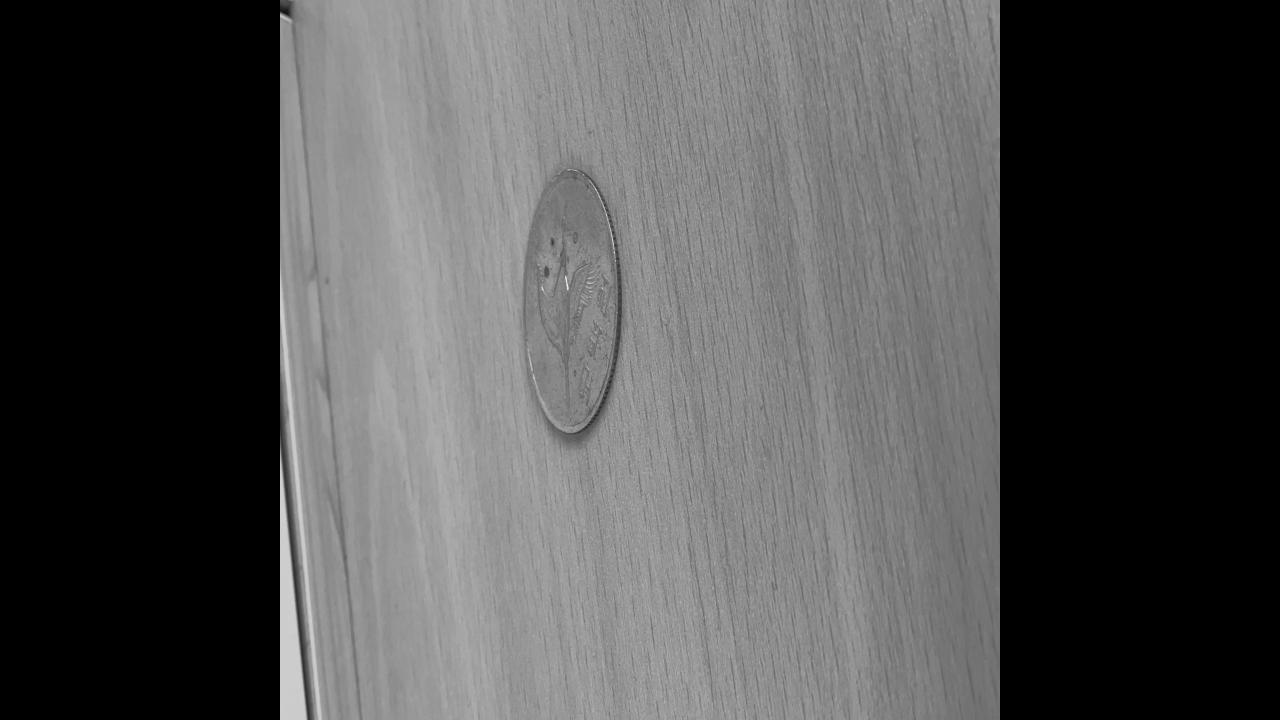coin: (521, 162, 621, 436)
